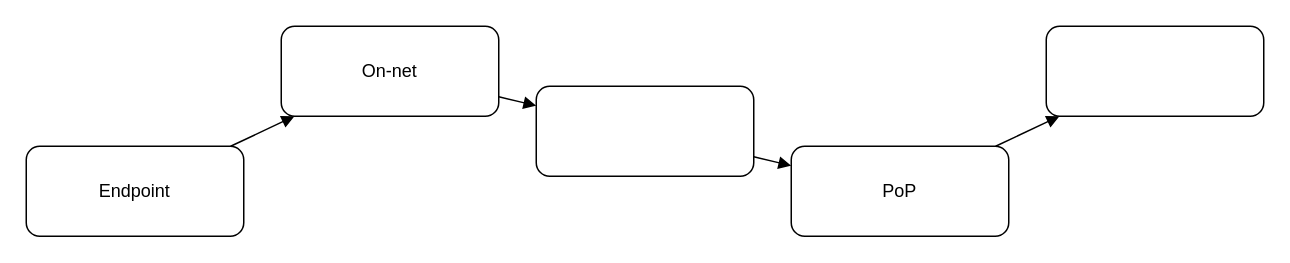
Some shapes in this 1290 by 263 pixel diagram are drawn without their labels. Each missing label, with the centre of its shape:
Internet: the point at 1154,70
Tunnel: the point at 644,130
